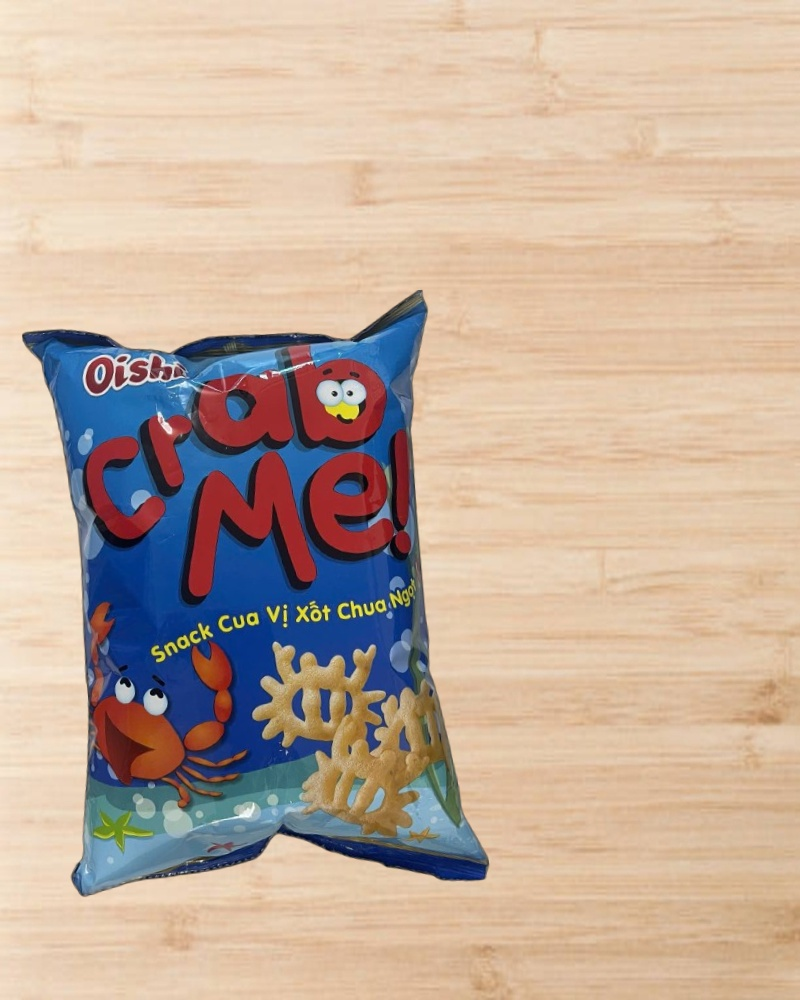Snack chay: (22, 289, 491, 917)
